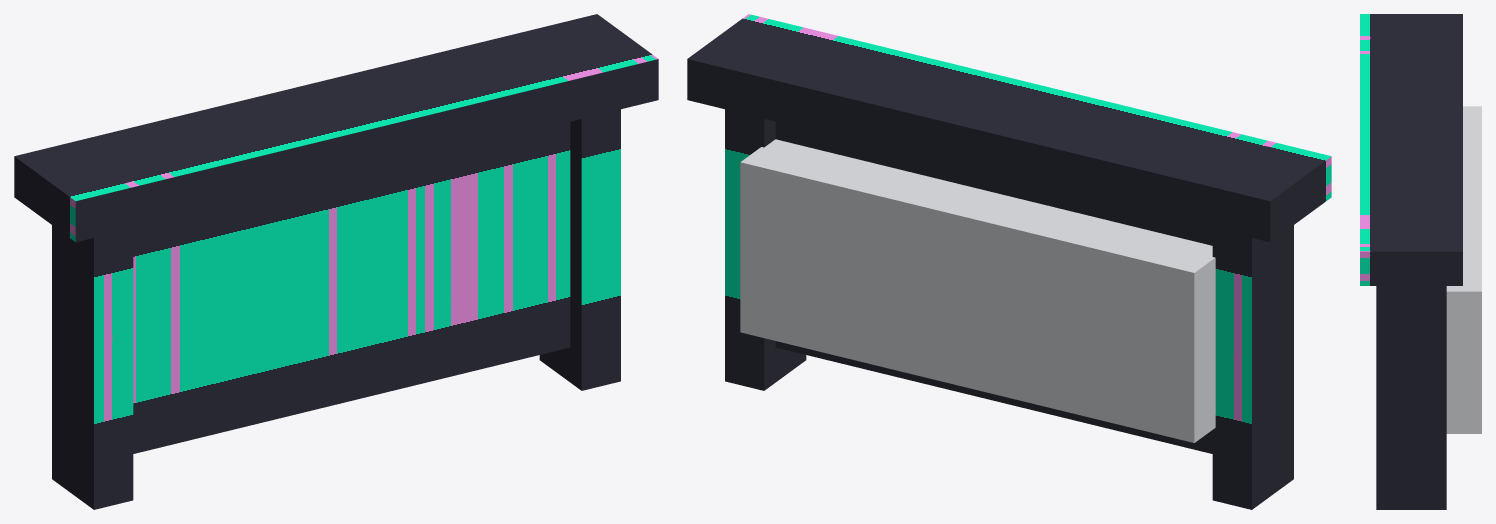
Rendered from nav_panel.glb.
The picture shows the model from 3 angles, left to right: view 1: azimuth 30°, elevation 25°; view 2: azimuth 150°, elevation 25°; view 3: azimuth 270°, elevation 25°; orthographic projection. The views are drawn at different scales.
Parts seen in each view (by area): view 1: nav_panel; view 2: nav_panel; view 3: nav_panel.
Boxes of the visible parts, box(x1,y1,x2,y2) form: nav_panel: box(14, 14, 658, 509); nav_panel: box(687, 14, 1331, 509); nav_panel: box(1360, 14, 1481, 509).
Size of the model in its own units: 1.04 by 0.55 by 0.225.
5 materials, 4 textured.
